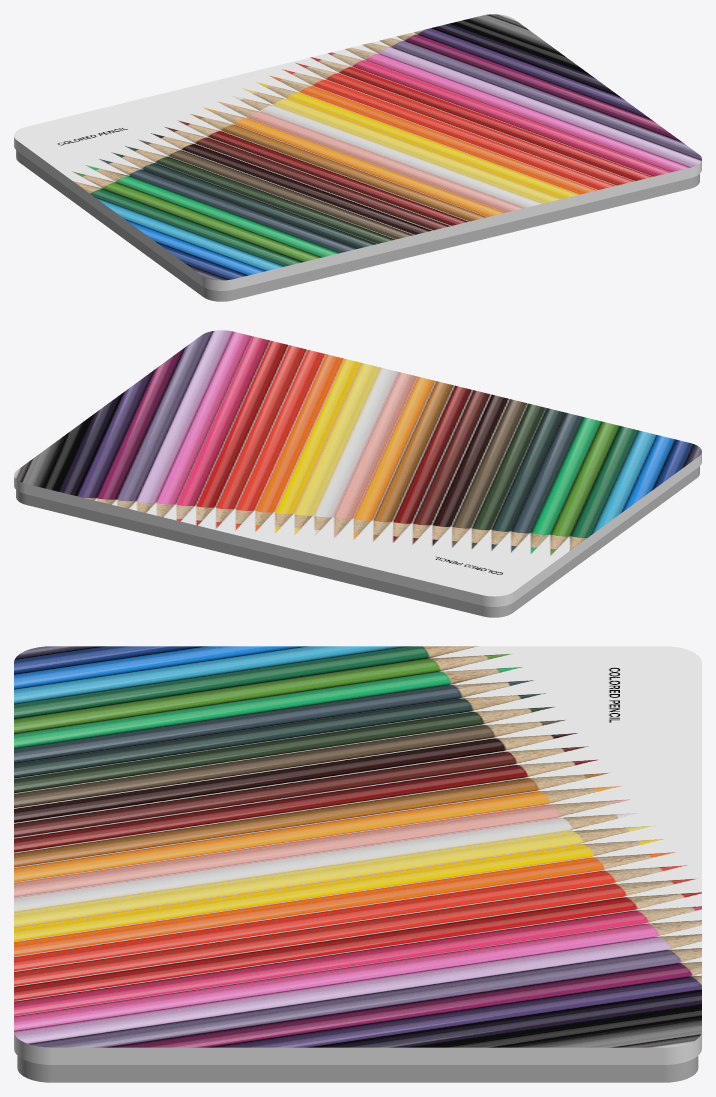
Rendered from 182_色鉛筆36色セット閉.glb.
3 views of the same model, one above another, from view 1: azimuth 30°, elevation 25°; view 2: azimuth 150°, elevation 25°; view 3: azimuth 270°, elevation 25° (orthographic). The views are drawn at different scales.
Parts seen in each view (by area): view 1: ふた, トレー; view 2: ふた, トレー; view 3: ふた, トレー.
Boxes of the visible parts, bbox=[...] form: ふた: bbox=[14, 14, 701, 290]; トレー: bbox=[16, 150, 699, 301]; ふた: bbox=[14, 330, 701, 606]; トレー: bbox=[16, 466, 699, 617]; ふた: bbox=[14, 646, 701, 1064]; トレー: bbox=[17, 1055, 698, 1082].
Size of the model in its own units: 0.272 by 0.0116 by 0.197.
41 materials, 1 textured.
